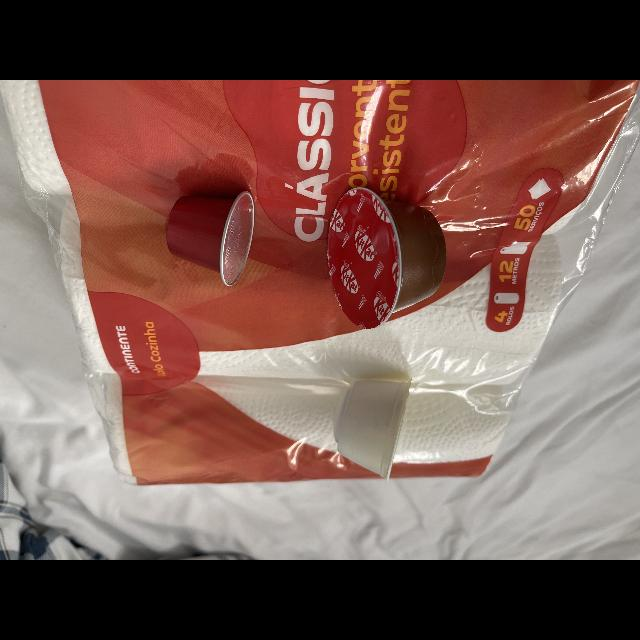intact_capsule: (317, 177, 451, 329), (324, 358, 418, 488), (158, 181, 264, 291)
